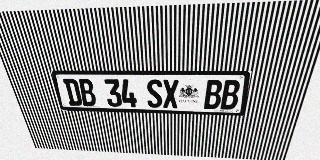3: (104, 79, 122, 107)
4: (119, 79, 137, 107)
B: (220, 80, 241, 110), (204, 80, 223, 109), (77, 79, 97, 106)
D: (63, 79, 83, 106)
S: (146, 79, 163, 108)
X: (162, 79, 179, 108)
